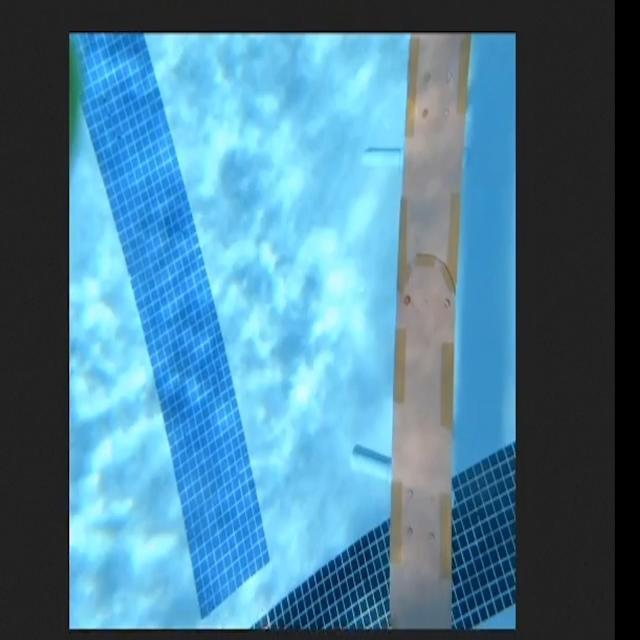Path: (387, 36, 486, 623)
